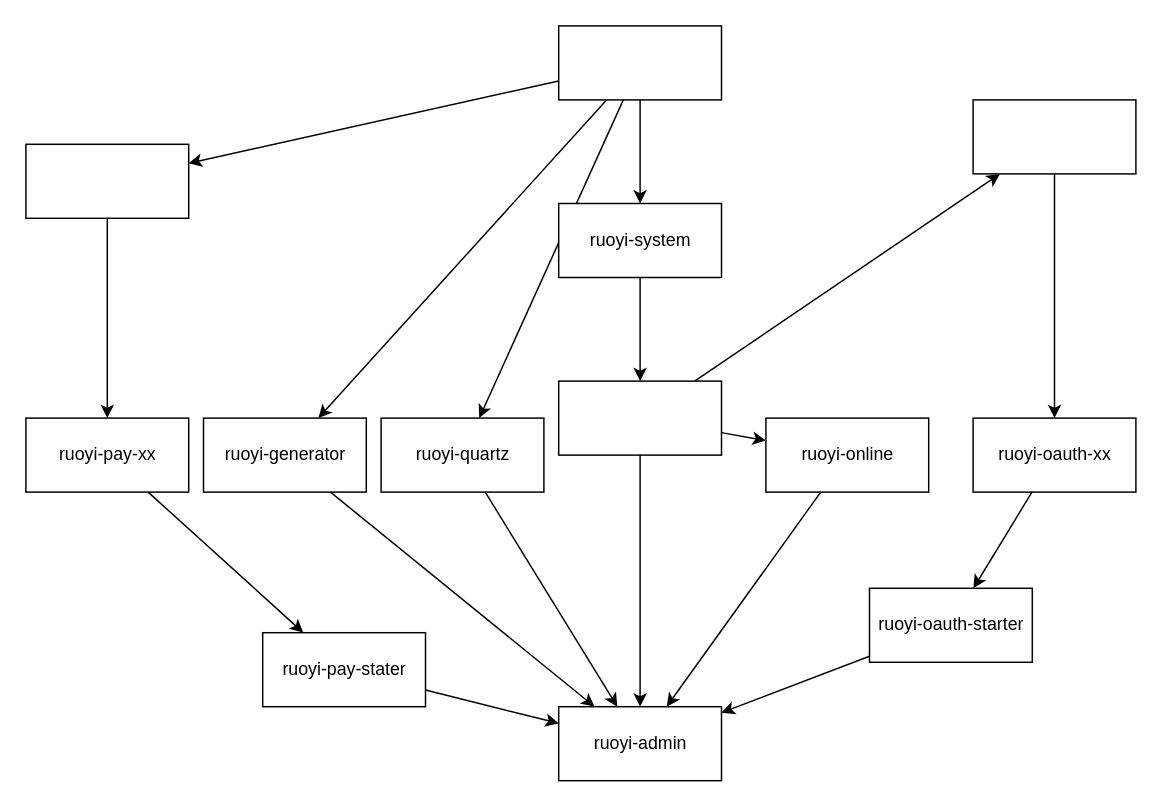
This 1162x807 diagram has some shape labels left out. Here are the shapes that lost their labels. From the top down, the centre of each, then its label:
At (x=639, y=62): "ruoyi-common".
At (x=1054, y=136): "ruoyi-oauth-common".
At (x=106, y=180): "ruoyi-pay-common".
At (x=639, y=417): "ruoyi-framework".
